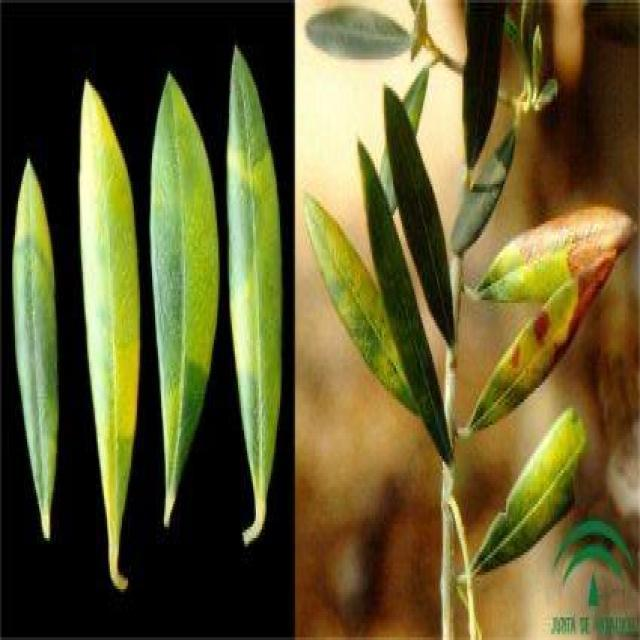OlivePeacockSpot: (80, 76, 140, 589), (150, 74, 218, 526), (229, 46, 280, 530), (306, 192, 416, 408), (461, 294, 604, 436), (12, 159, 54, 538), (476, 207, 636, 300)
